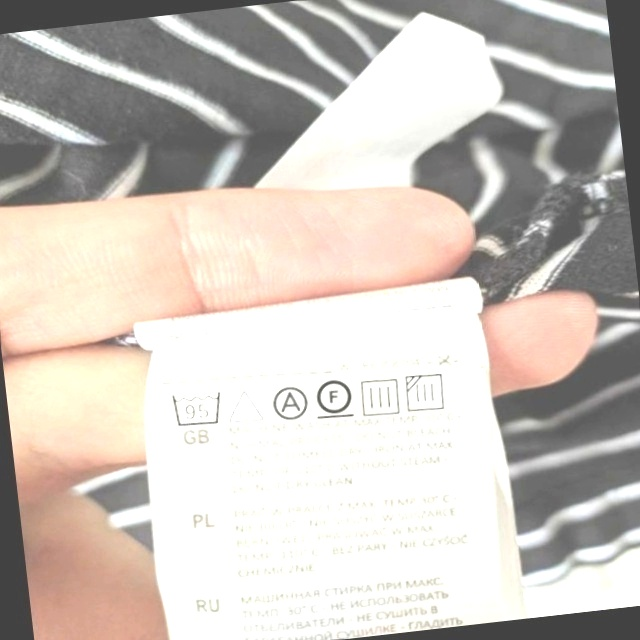95C: (168, 385, 228, 431)
bleach: (226, 383, 265, 428)
drip_dry: (356, 373, 404, 419)
drip_dry_in_shade: (403, 368, 452, 417)
dry_clean: (268, 382, 310, 423)
dry_clean_petrol_only: (313, 372, 357, 422)
